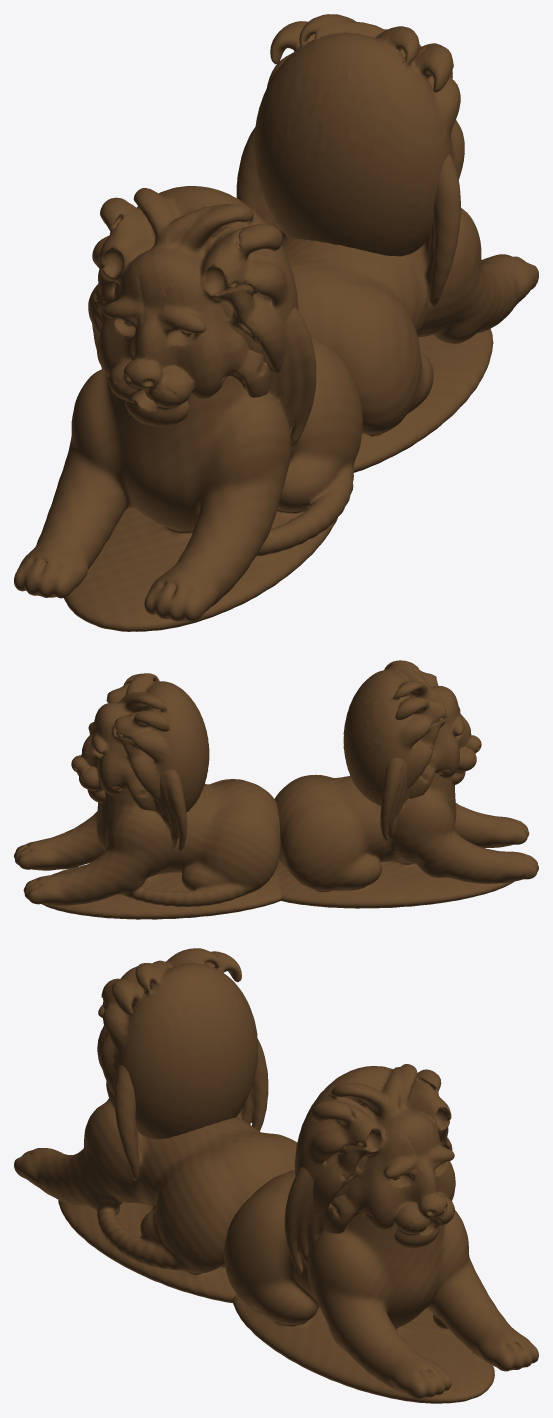
The model's file is sculpture.obj.
3 renders of one model, top to bottom at view 1: azimuth 30°, elevation 25°; view 2: azimuth 150°, elevation 25°; view 3: azimuth 270°, elevation 25°, orthographic. The views are drawn at different scales.
Parts seen in each view (by area): view 1: reclining_lions; view 2: reclining_lions; view 3: reclining_lions.
Part boxes in pixels (bbox=[...]): reclining_lions: bbox=[14, 14, 538, 631]; reclining_lions: bbox=[14, 660, 538, 919]; reclining_lions: bbox=[14, 948, 538, 1403].
Bounding box in the file's own units: 51.44 × 25.81 × 42.78.
